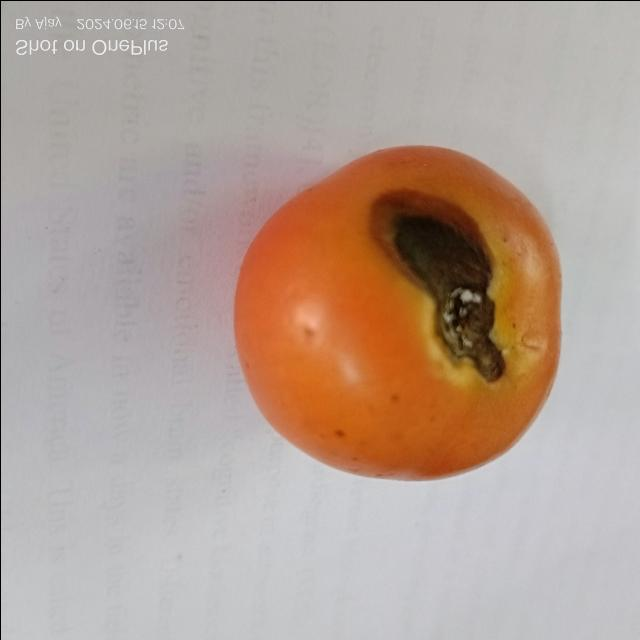Anthrocnose: (358, 186, 500, 384)
